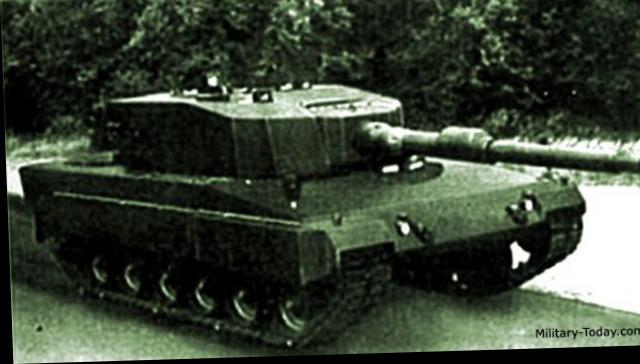tank: (11, 69, 568, 318)
